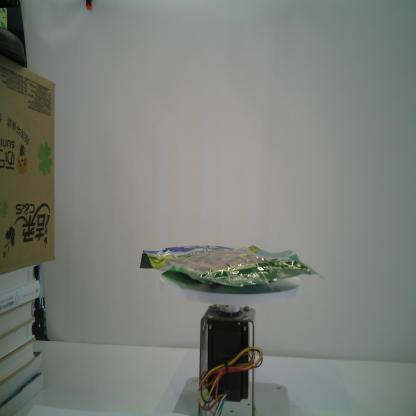Dried Food: (138, 243, 324, 289)
